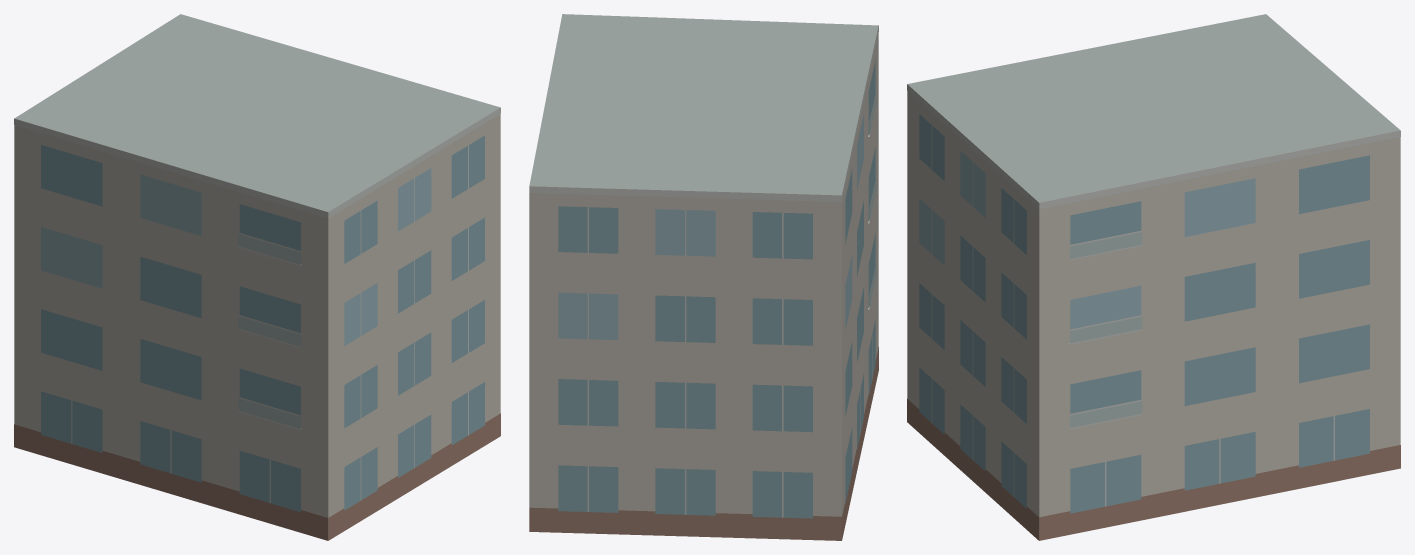
Rendered from survey-upis-33029830.glb.
3 views of the same model, side by side, from view 1: azimuth 30°, elevation 25°; view 2: azimuth 150°, elevation 25°; view 3: azimuth 270°, elevation 25° (orthographic). The views are drawn at different scales.
Parts seen in each view (by area): view 1: survey-upis-33029830.tmp; view 2: survey-upis-33029830.tmp; view 3: survey-upis-33029830.tmp.
Part boxes in pixels (x1,y1,x2,y2): survey-upis-33029830.tmp: [14, 14, 500, 540]; survey-upis-33029830.tmp: [529, 14, 878, 540]; survey-upis-33029830.tmp: [907, 14, 1400, 540].
Bounding box in the file's own units: 15.35 × 12.8 × 16.95.
